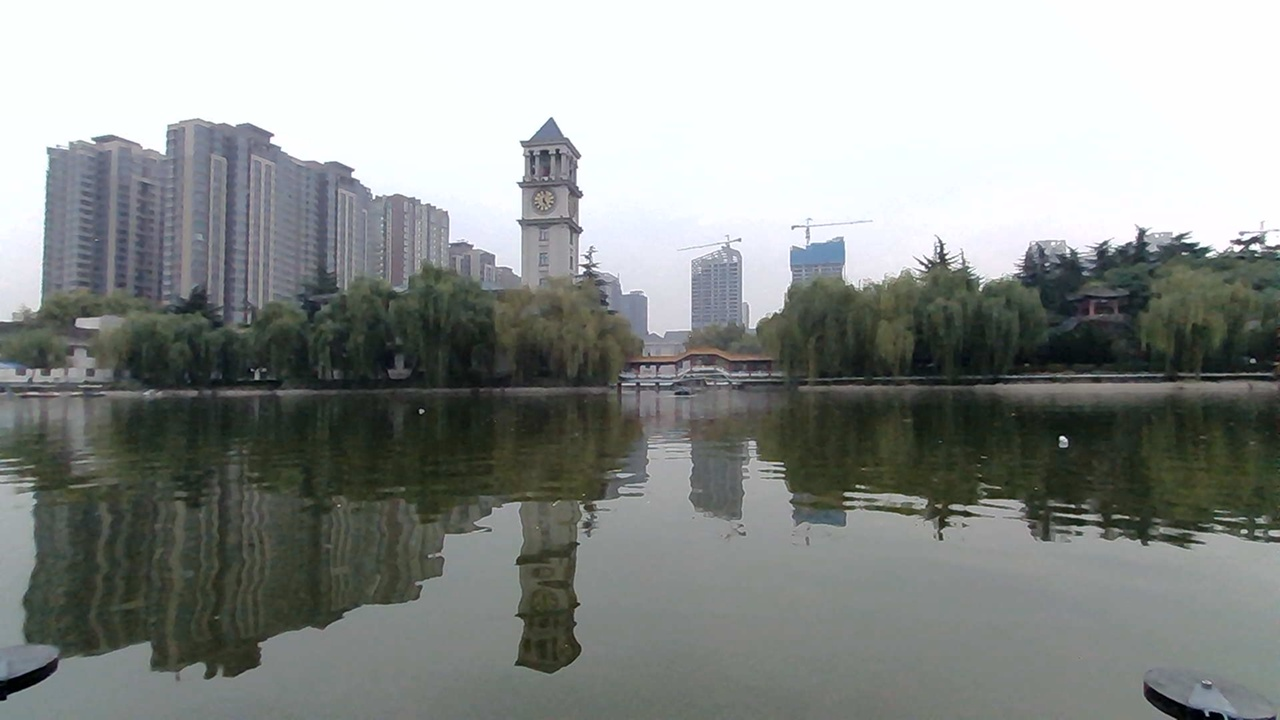bottle: (1037, 425, 1087, 454)
